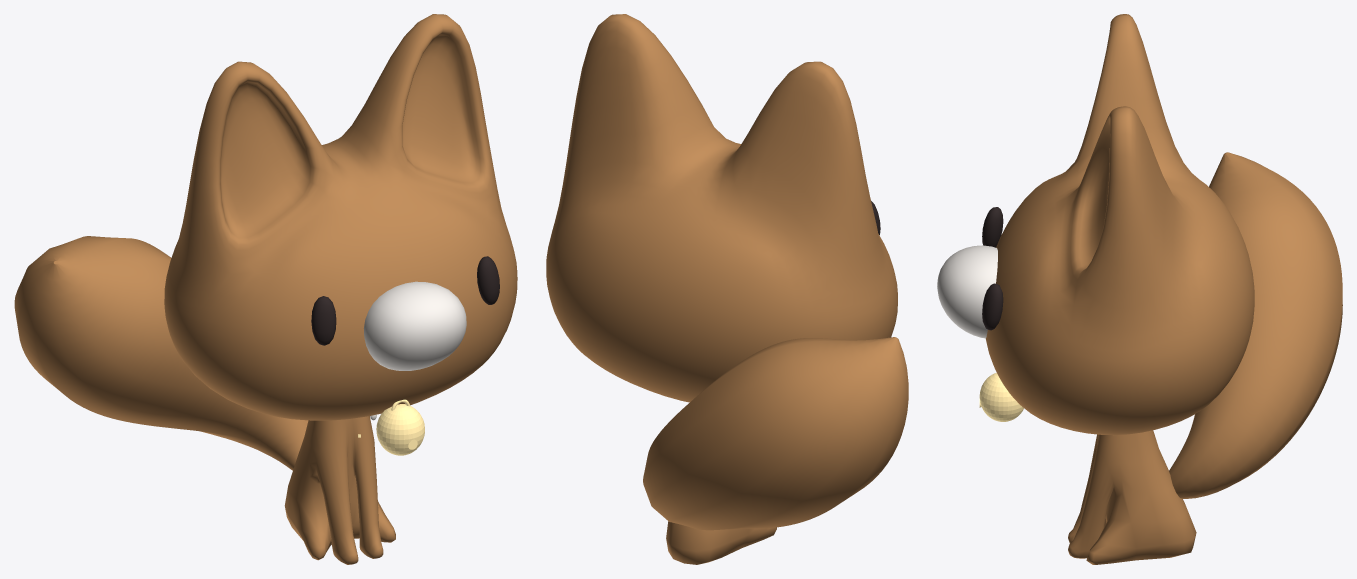
The model's file is fox-base-v9.glb.
The picture shows the model from 3 angles, left to right: view 1: azimuth 30°, elevation 25°; view 2: azimuth 150°, elevation 25°; view 3: azimuth 270°, elevation 25°; orthographic projection. The views are drawn at different scales.
Visible parts, largest first — view 1: FoxBase_Head, FoxBase_Tail, FoxBase_Body, FoxBase_Muzzle, FoxBase_AccBell, FoxBase_EyeRight, FoxBase_EyeLeft; view 2: FoxBase_Head, FoxBase_Tail, FoxBase_Body; view 3: FoxBase_Head, FoxBase_Tail, FoxBase_Body, FoxBase_Muzzle, FoxBase_AccBell, FoxBase_EyeLeft, FoxBase_EyeRight.
Boxes of the visible parts, x1,y1,x2,y2 form: FoxBase_Head: (164,14,517,420); FoxBase_Tail: (14,236,308,470); FoxBase_Body: (284,416,395,564); FoxBase_Muzzle: (363,281,466,370); FoxBase_AccBell: (376,399,424,455); FoxBase_EyeRight: (311,296,336,345); FoxBase_EyeLeft: (477,256,499,304); FoxBase_Head: (546,14,897,402); FoxBase_Tail: (643,337,908,530); FoxBase_Body: (666,521,776,564); FoxBase_Head: (985,14,1254,435); FoxBase_Tail: (1169,152,1342,498); FoxBase_Body: (1068,430,1196,564); FoxBase_Muzzle: (937,245,997,338); FoxBase_AccBell: (979,372,1023,421); FoxBase_EyeLeft: (982,283,1003,330); FoxBase_EyeRight: (982,207,1003,247).
Bounding box in the file's own units: 0.1183 × 0.1396 × 0.1048.
